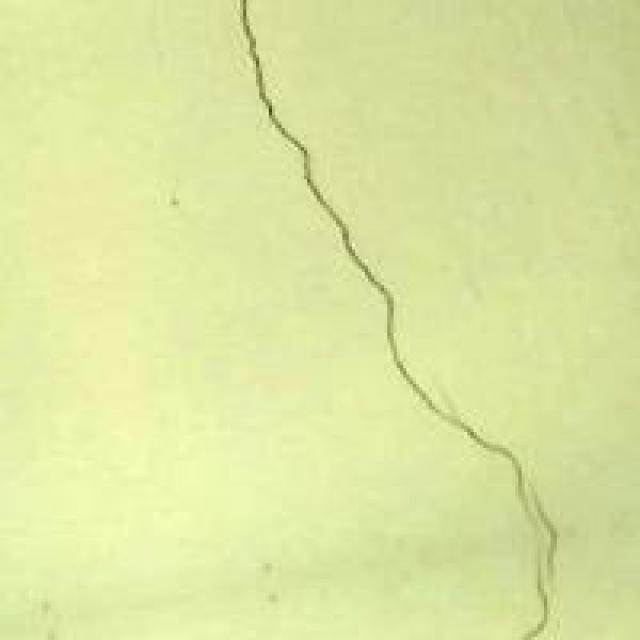Crack: (218, 3, 540, 621)
